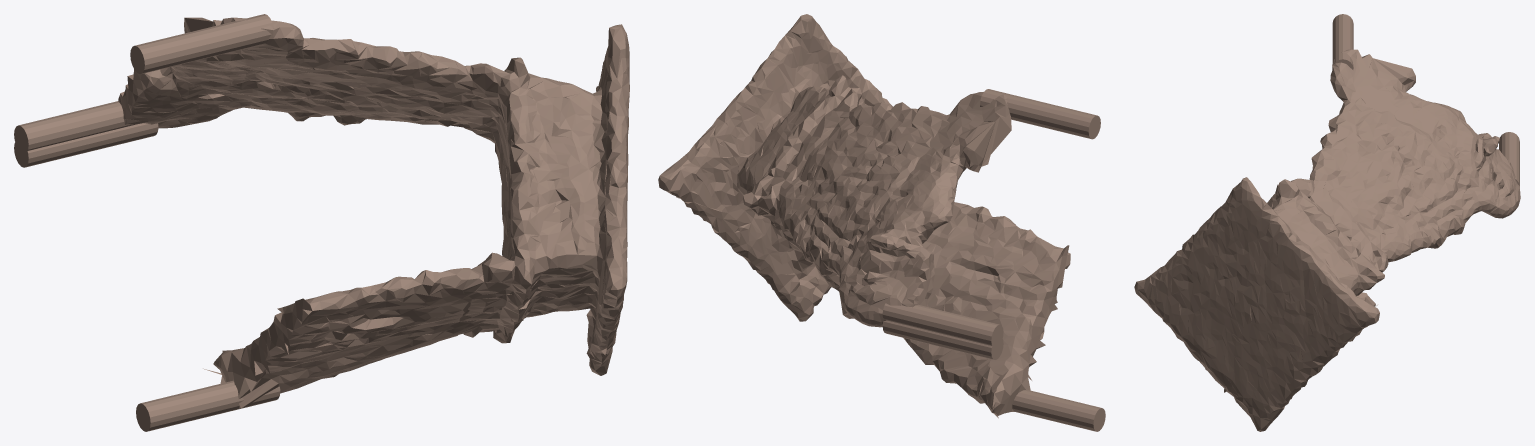
File: improved.glb
The picture shows the model from 3 angles, left to right: view 1: azimuth 30°, elevation 25°; view 2: azimuth 150°, elevation 25°; view 3: azimuth 270°, elevation 25°; orthographic projection. The views are drawn at different scales.
Parts seen in each view (by area): view 1: world; view 2: world; view 3: world.
Part boxes in pixels (x1,y1,x2,y2): world: (14, 14, 629, 431); world: (658, 14, 1105, 431); world: (1134, 14, 1520, 431).
Size of the model in its own units: 0.5 by 0.3695 by 0.468.
